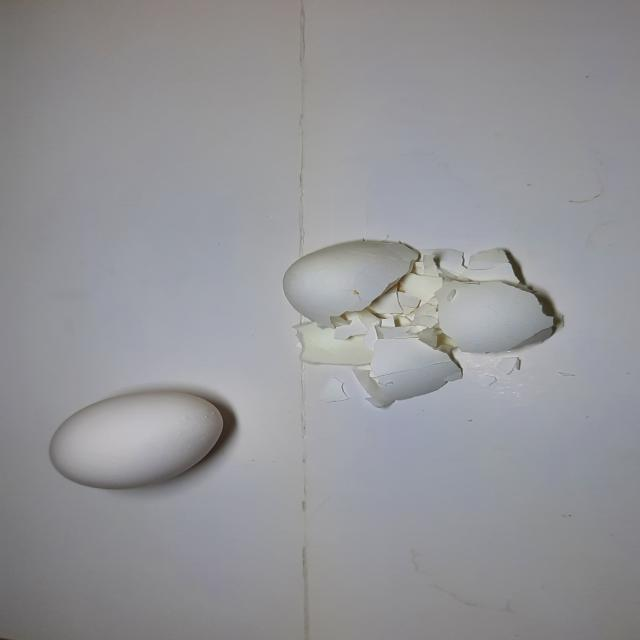egg shell: (36, 384, 246, 502), (273, 234, 421, 320), (430, 272, 558, 358), (344, 326, 466, 411), (296, 314, 374, 365)
